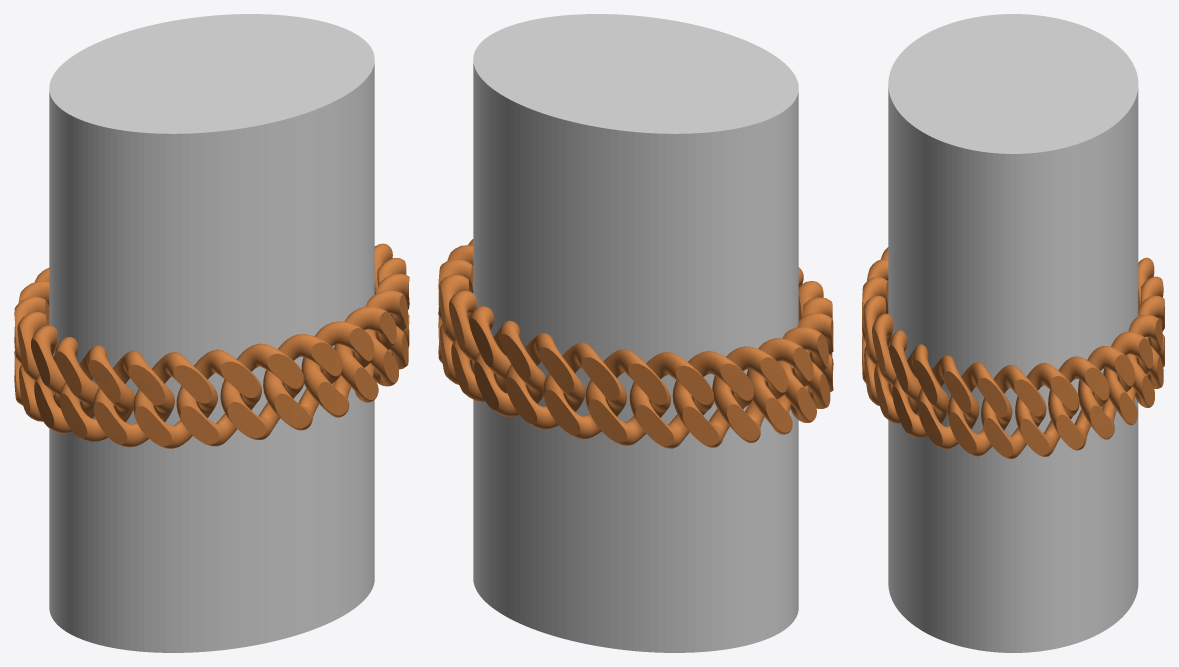
File: bracelet.glb
The picture shows the model from 3 angles, left to right: view 1: azimuth 30°, elevation 25°; view 2: azimuth 150°, elevation 25°; view 3: azimuth 270°, elevation 25°; orthographic projection. The views are drawn at different scales.
Visible parts, largest first — view 1: Body, Bracelet; view 2: Body, Bracelet; view 3: Body, Bracelet.
Boxes of the visible parts, x1,y1,x2,y2 form: Body: (49, 14, 374, 652); Bracelet: (14, 243, 409, 448); Body: (473, 14, 798, 652); Bracelet: (438, 239, 833, 448); Body: (888, 14, 1138, 652); Bracelet: (862, 247, 1164, 458).
Bounding box in the file's own units: 0.0729 × 0.0997 × 0.0549.
